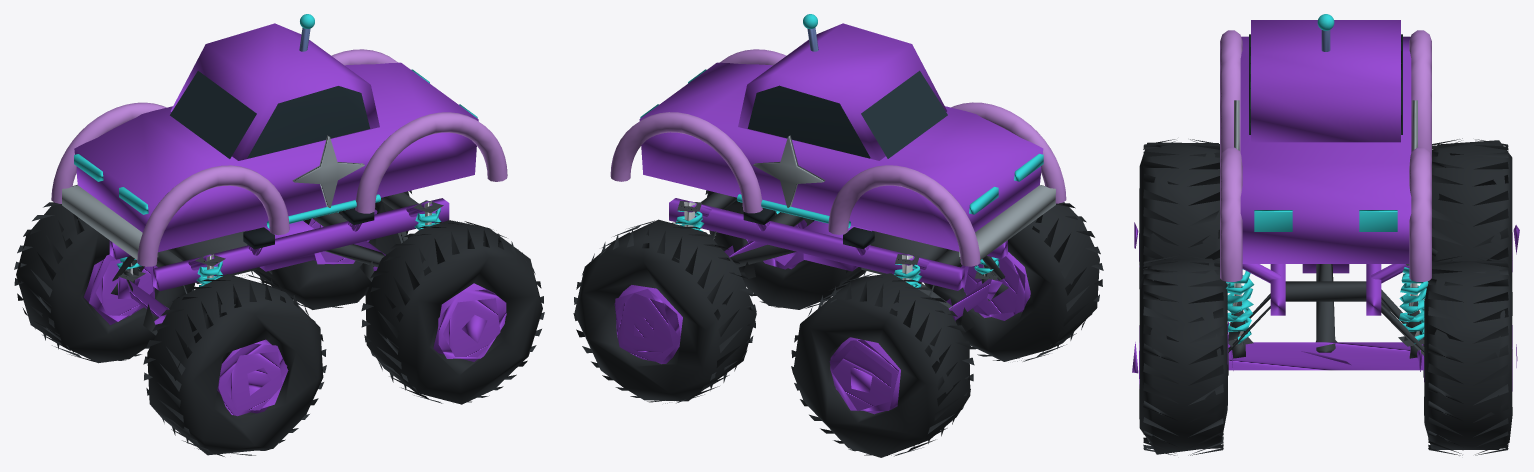
The model's file is RocketRumble_LOD2.fbx.
3 renders of one model, left to right at view 1: azimuth 30°, elevation 25°; view 2: azimuth 150°, elevation 25°; view 3: azimuth 270°, elevation 25°, orthographic. The views are drawn at different scales.
Parts seen in each view (by area): view 1: RocketRumble_LOD2_sprung_body_Geometry, RocketRumble_LOD2_RL_Spin_Geometry, RocketRumble_LOD2_FL_Spin_Geometry, RocketRumble_LOD2_FR_Spin_Geometry, RocketRumble_LOD2_RR_Spin_Geometry, RocketRumble_LOD2_Root_Geometry, RocketRumble_LOD2_FRONT_axle_Geometry, RocketRumble_LOD2_FRONT_shock_-1_Geometry, RocketRumble_LOD2_REAR_shock_-1_Geometry; view 2: RocketRumble_LOD2_sprung_body_Geometry, RocketRumble_LOD2_RR_Spin_Geometry, RocketRumble_LOD2_FR_Spin_Geometry, RocketRumble_LOD2_FL_Spin_Geometry, RocketRumble_LOD2_RL_Spin_Geometry, RocketRumble_LOD2_Root_Geometry, RocketRumble_LOD2_FRONT_axle_Geometry, RocketRumble_LOD2_FRONT_shock_1_Geometry, RocketRumble_LOD2_REAR_shock_1_Geometry; view 3: RocketRumble_LOD2_sprung_body_Geometry, RocketRumble_LOD2_RL_Spin_Geometry, RocketRumble_LOD2_RR_Spin_Geometry, RocketRumble_LOD2_FR_Spin_Geometry, RocketRumble_LOD2_FL_Spin_Geometry, RocketRumble_LOD2_REAR_axle_Geometry, RocketRumble_LOD2_Root_Geometry, RocketRumble_LOD2_REAR_shock_-1_Geometry, RocketRumble_LOD2_REAR_shock_1_Geometry.
Boxes of the visible parts, x1,y1,x2,y2 form: RocketRumble_LOD2_sprung_body_Geometry: [51, 14, 507, 291]; RocketRumble_LOD2_RL_Spin_Geometry: [361, 220, 544, 404]; RocketRumble_LOD2_FL_Spin_Geometry: [143, 274, 326, 456]; RocketRumble_LOD2_FR_Spin_Geometry: [14, 185, 194, 363]; RocketRumble_LOD2_RR_Spin_Geometry: [251, 190, 411, 309]; RocketRumble_LOD2_Root_Geometry: [112, 211, 407, 293]; RocketRumble_LOD2_FRONT_axle_Geometry: [111, 279, 169, 335]; RocketRumble_LOD2_FRONT_shock_-1_Geometry: [195, 253, 225, 286]; RocketRumble_LOD2_REAR_shock_-1_Geometry: [413, 200, 443, 229]; RocketRumble_LOD2_sprung_body_Geometry: [610, 14, 1066, 290]; RocketRumble_LOD2_RR_Spin_Geometry: [573, 219, 756, 403]; RocketRumble_LOD2_FR_Spin_Geometry: [791, 273, 974, 457]; RocketRumble_LOD2_FL_Spin_Geometry: [924, 185, 1103, 361]; RocketRumble_LOD2_RL_Spin_Geometry: [705, 190, 866, 309]; RocketRumble_LOD2_Root_Geometry: [712, 212, 1005, 308]; RocketRumble_LOD2_FRONT_axle_Geometry: [946, 279, 1008, 333]; RocketRumble_LOD2_FRONT_shock_1_Geometry: [894, 254, 921, 289]; RocketRumble_LOD2_REAR_shock_1_Geometry: [675, 201, 704, 231]; RocketRumble_LOD2_sprung_body_Geometry: [1220, 14, 1431, 315]; RocketRumble_LOD2_RL_Spin_Geometry: [1132, 256, 1233, 455]; RocketRumble_LOD2_RR_Spin_Geometry: [1417, 256, 1517, 455]; RocketRumble_LOD2_FR_Spin_Geometry: [1432, 138, 1519, 315]; RocketRumble_LOD2_FL_Spin_Geometry: [1134, 139, 1219, 288]; RocketRumble_LOD2_REAR_axle_Geometry: [1227, 337, 1424, 377]; RocketRumble_LOD2_Root_Geometry: [1228, 264, 1424, 358]; RocketRumble_LOD2_REAR_shock_-1_Geometry: [1226, 269, 1254, 346]; RocketRumble_LOD2_REAR_shock_1_Geometry: [1398, 264, 1428, 346].
Bounding box in the file's own units: 513 × 459 × 414.
